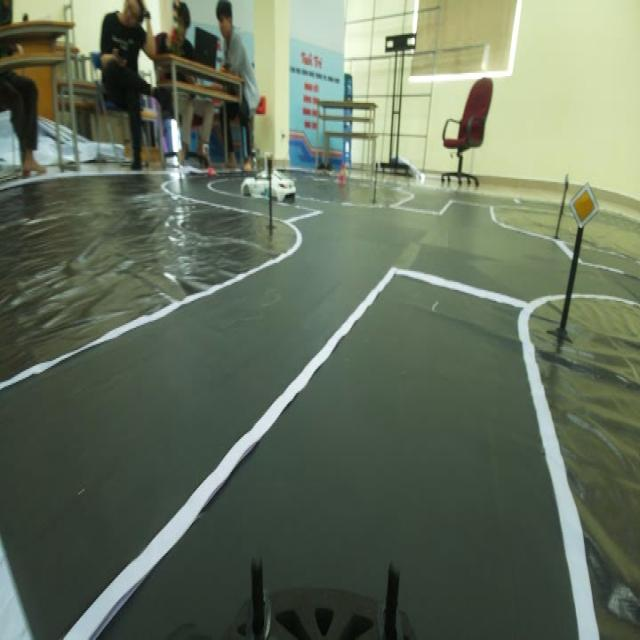priority: (568, 174, 603, 234)
